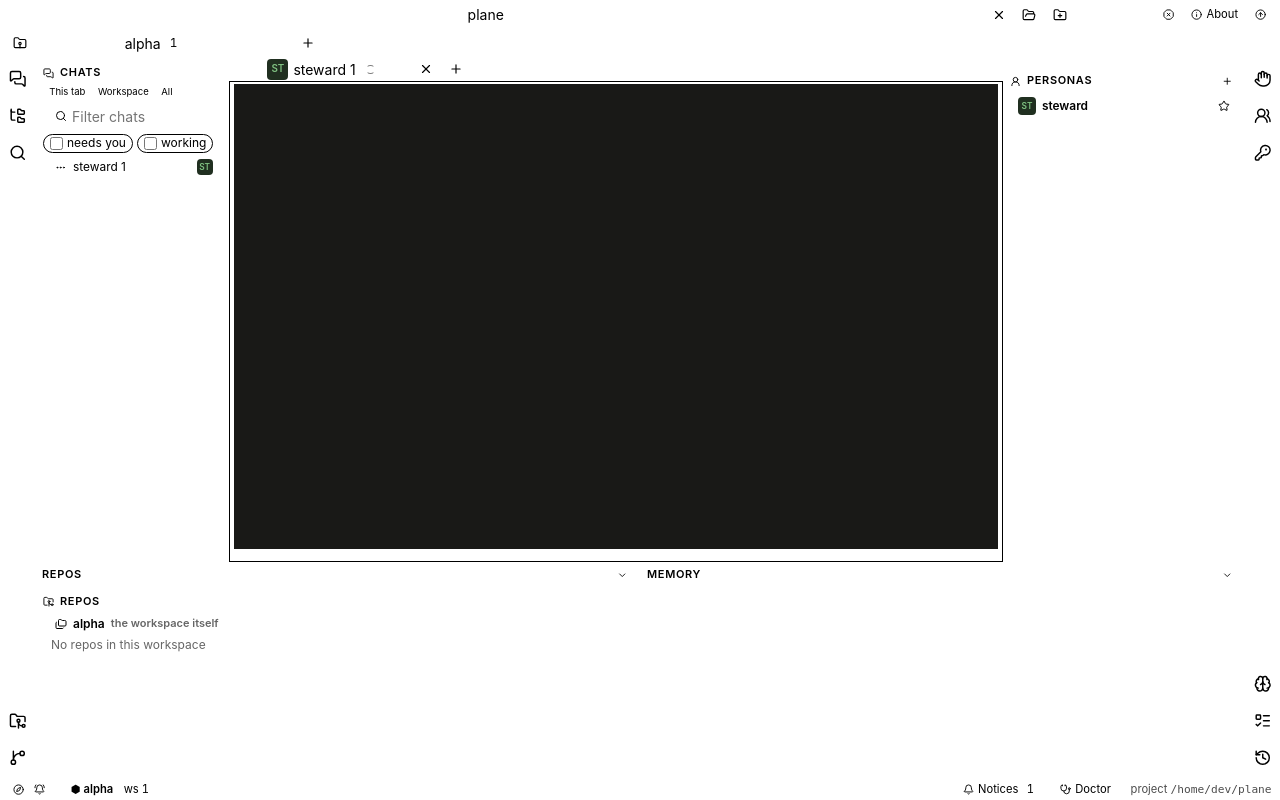
Test: a persona's own tab › an extension's palette commands (charter-app#341) › asks before running an action that deletes, and runs it on nothing once said yes to
Press F2
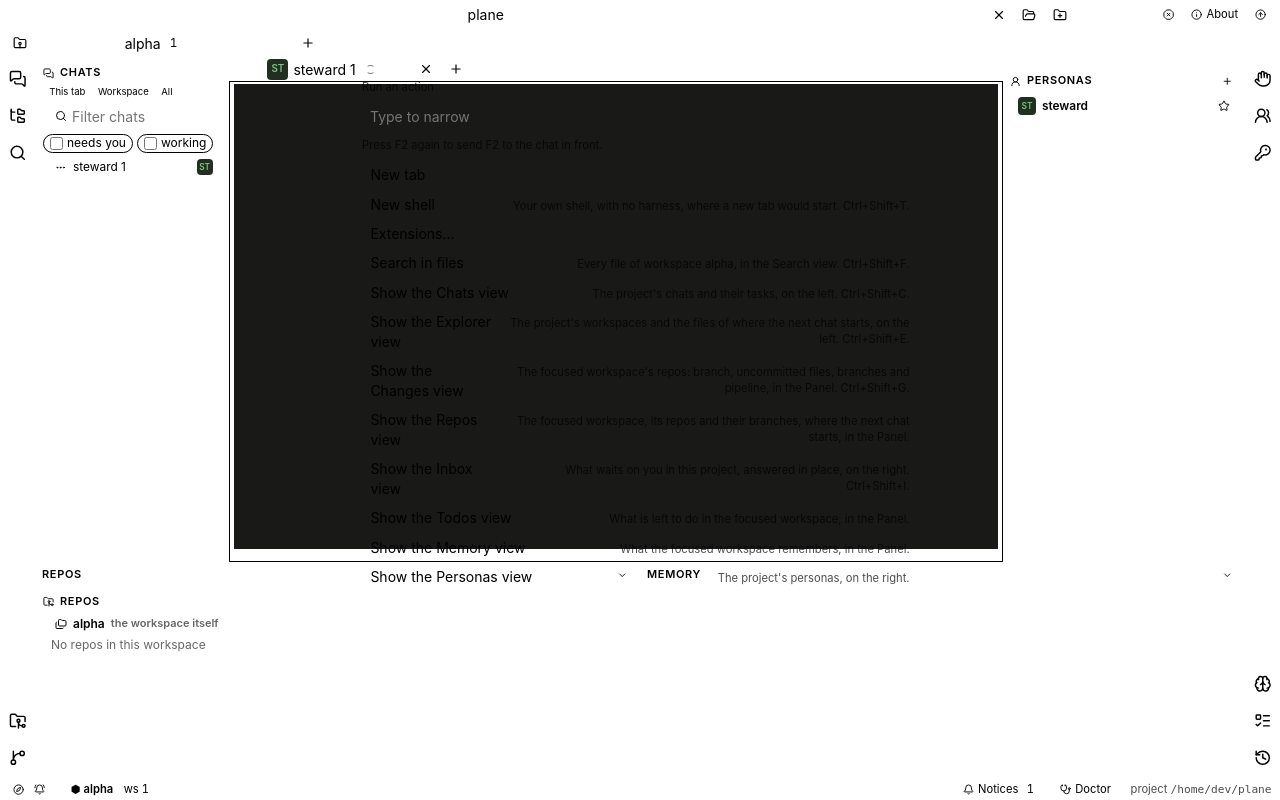
Check: the dialog named "Command palette" is shown, box [346,64,934,616]
Type keys "Todos: Close every todo{Enter}"
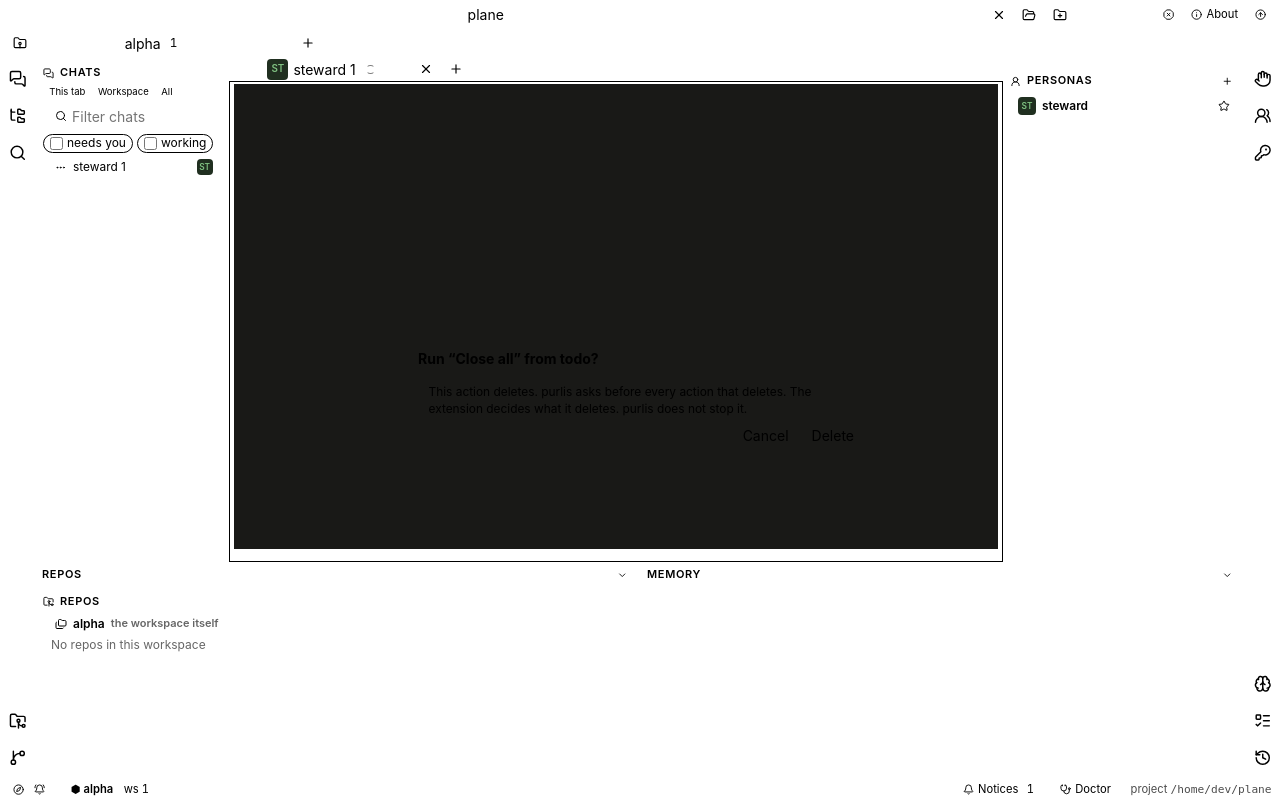
Check: the dialog shows "Run “Close all” from todo?", box [402,333,878,467]
Click the button "Delete".
click(833, 437)  # box [804,423,862,451]
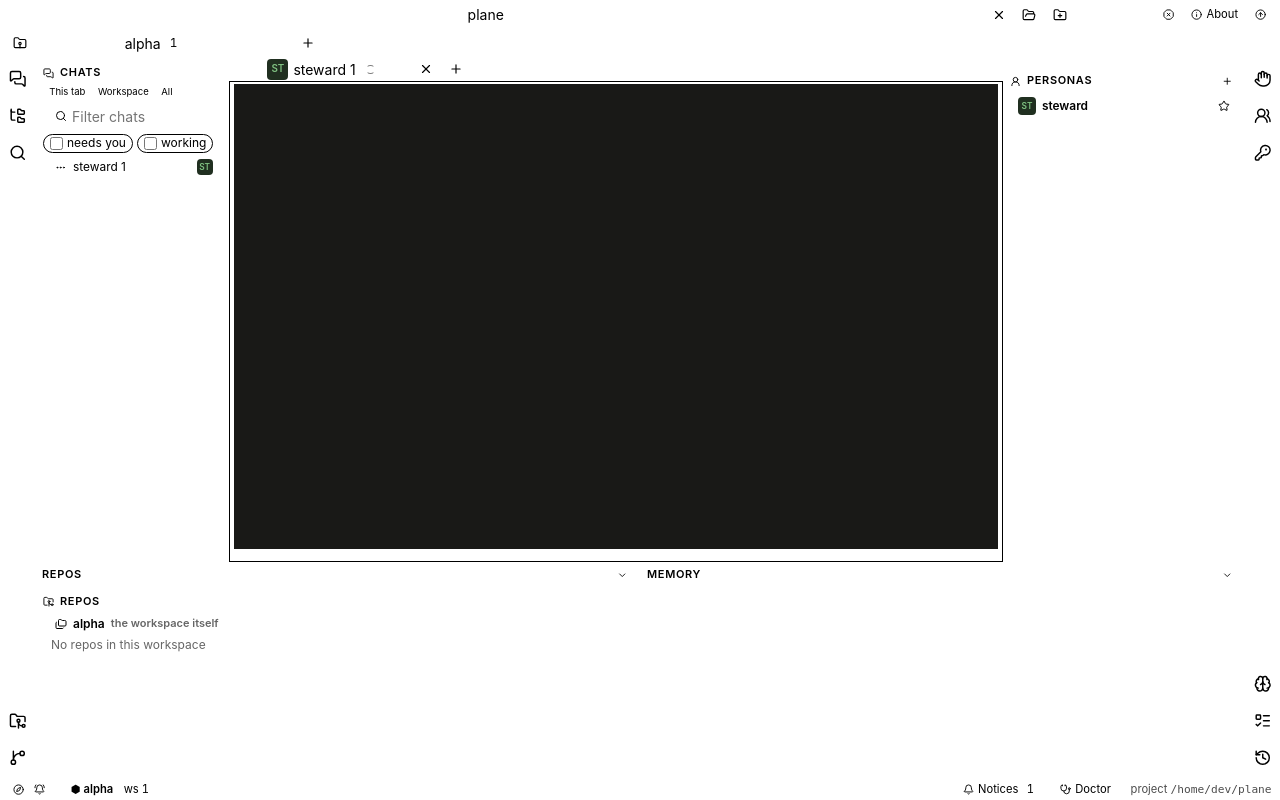
Check: the dialog is gone
